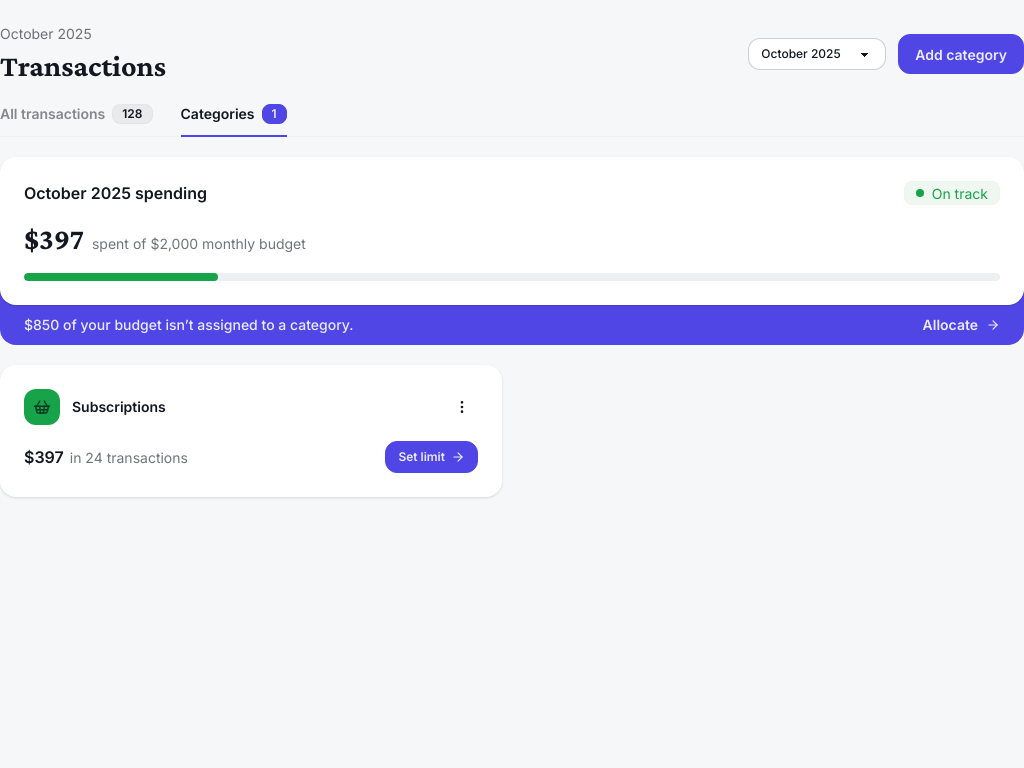
the edit seam › opens the same modal from an uncapped card’s "Set limit", focused on the budget
Click the button with aria-label "Set limit for Subscriptions" at (432, 457), box [385,441,478,473]
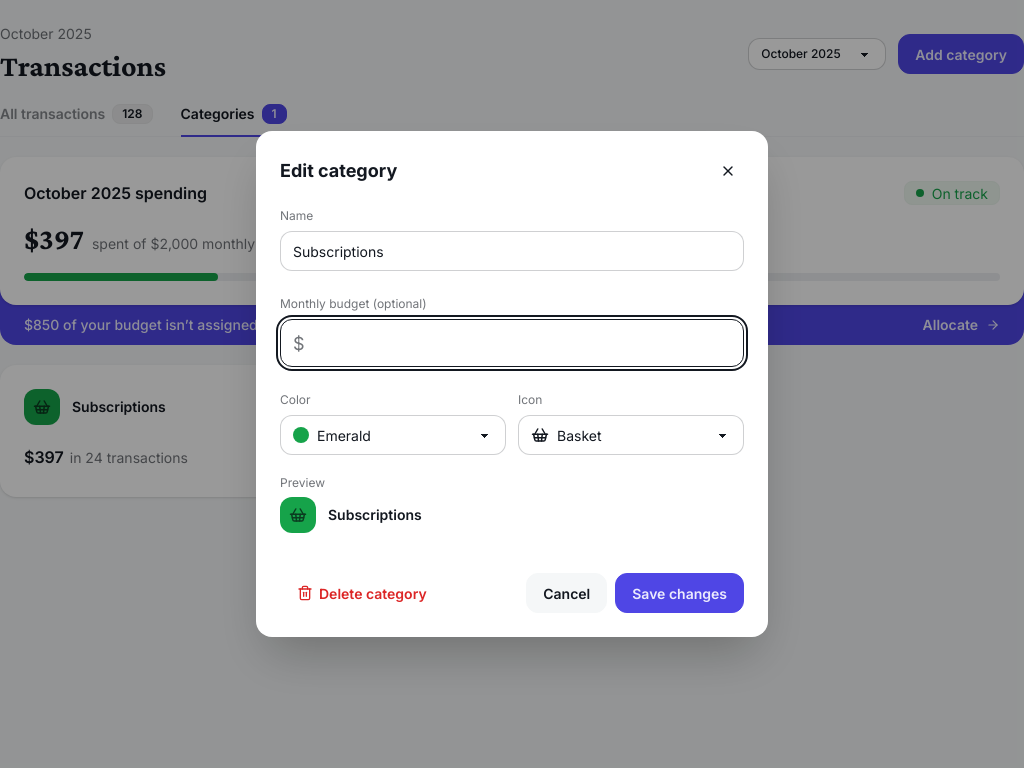
Check: the heading "Edit category" is shown, box [280,157,397,185]
